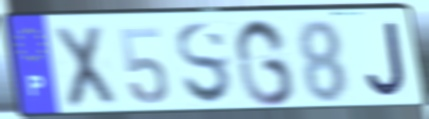5: (116, 24, 170, 106)
8: (295, 16, 351, 105)
G: (232, 16, 298, 109)
J: (364, 20, 409, 99)
S: (173, 20, 235, 108)
X: (51, 23, 120, 111)
